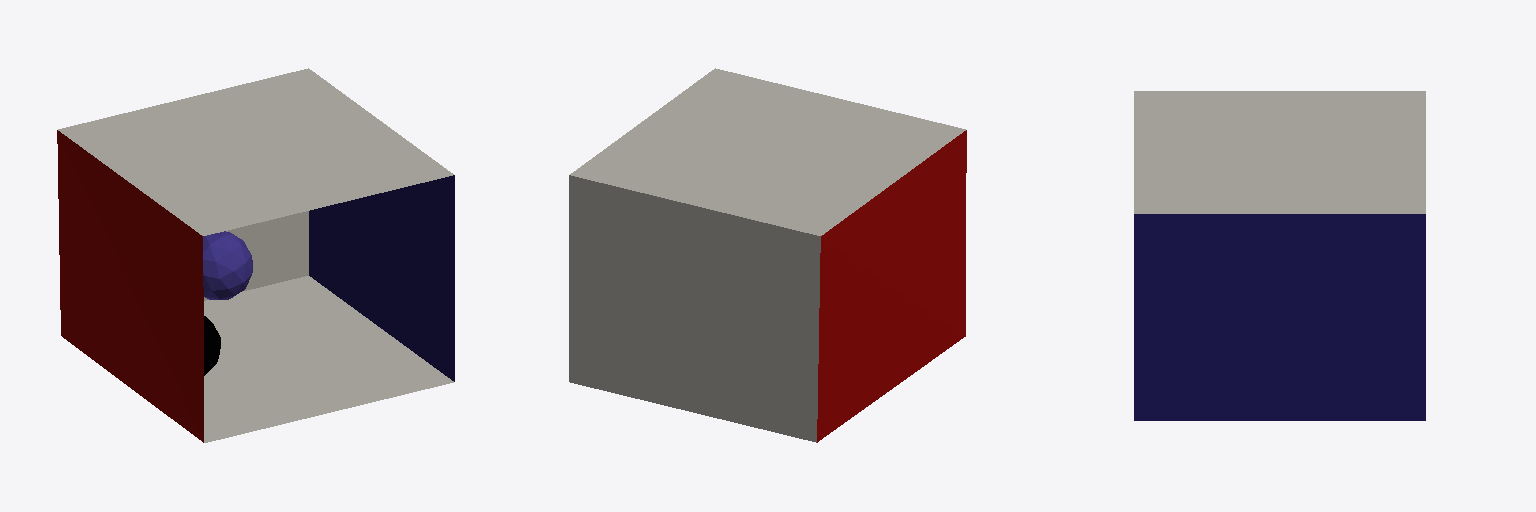
Rendered from CornellBox-Sphere-274.obj.
The picture shows the model from 3 angles: view 1: azimuth 30°, elevation 25°; view 2: azimuth 150°, elevation 25°; view 3: azimuth 270°, elevation 25°; orthographic projection.
Parts seen in each view (by area): view 1: ceiling, leftWall, floor, rightWall, backWall, leftSphere, rightSphere; view 2: backWall, ceiling, leftWall; view 3: rightWall, ceiling.
Part boxes in pixels (x1,y1,x2,y2): ceiling: (58,68,453,235); leftWall: (57,130,203,442); floor: (204,276,453,442); rightWall: (309,175,454,381); backWall: (204,211,308,300); leftSphere: (203,231,252,299); rightSphere: (204,316,220,375); backWall: (569,175,820,442); ceiling: (570,68,965,235); leftWall: (817,130,966,442); rightWall: (1134,214,1425,420); ceiling: (1134,91,1425,213).
Size of the model in its own units: 2.02 by 1.59 by 2.03.